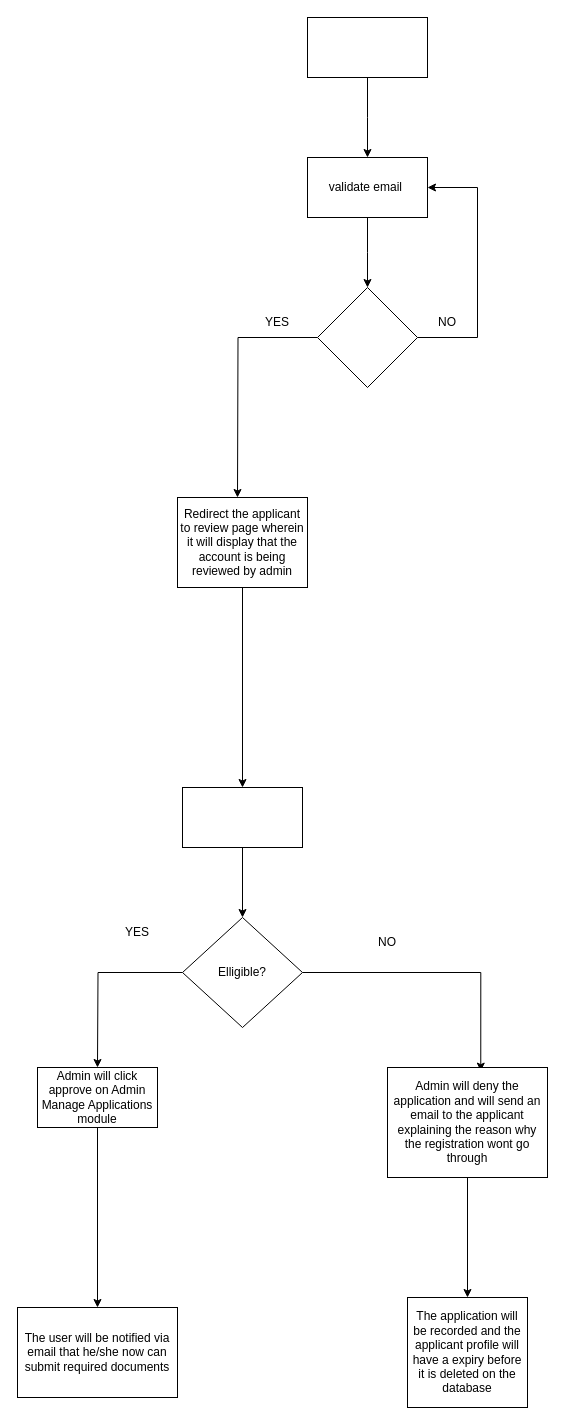
The diagram is 565 pixels wide and 1425 high, and some of its shapes have lost their labels. The shapes that lost their labels are listed below. From the top down, each one's box as (x1, y1, x2, y2) in pixels, then its label:
(306, 16, 428, 78): Submit registration form
(316, 286, 418, 388): email validated?
(182, 786, 302, 848): Admin will review if the applicant is elligible to apply
